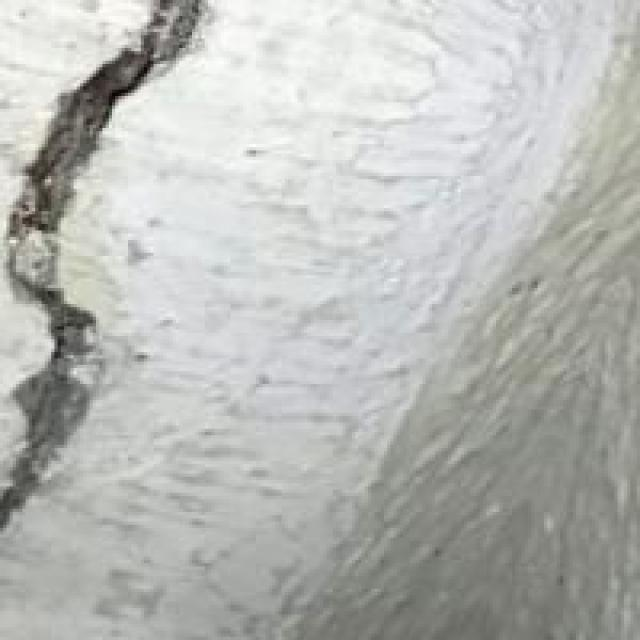Crack: (0, 0, 275, 522)
